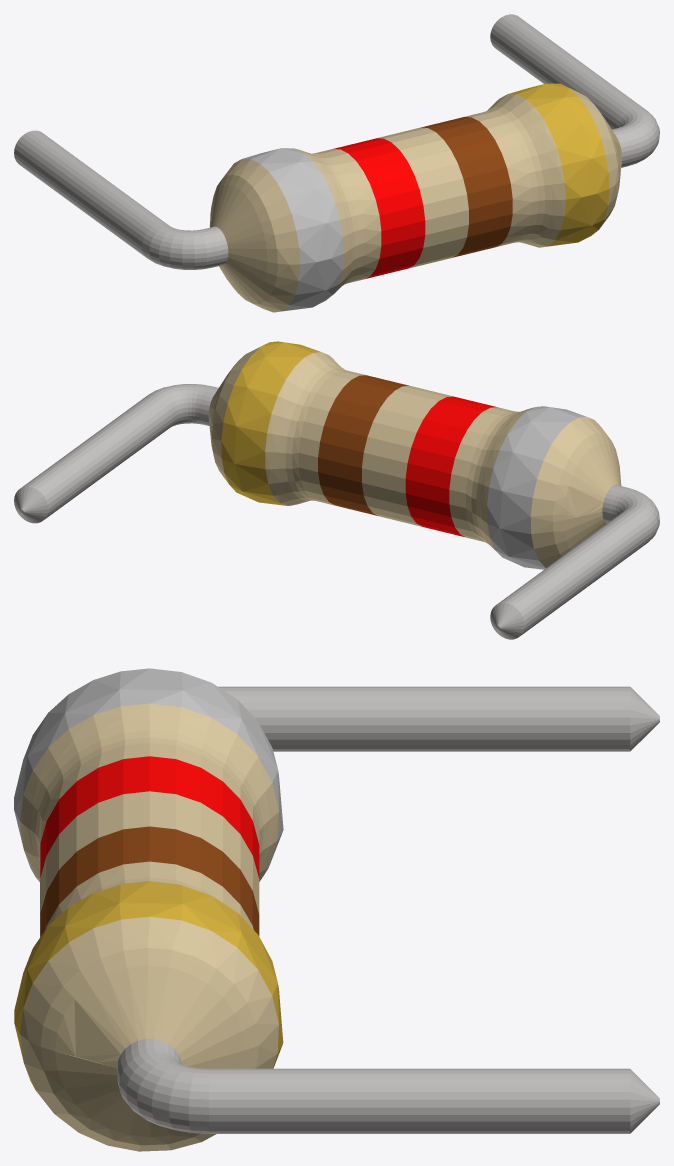
Rendered from Yageo CFR-25 Resistor Axial P7.62mm 820,0 Ohm.obj.
3 renders of one model, top to bottom at view 1: azimuth 30°, elevation 25°; view 2: azimuth 150°, elevation 25°; view 3: azimuth 270°, elevation 25°, orthographic. The views are drawn at different scales.
Visible parts, largest first — view 1: Yageo_CFR-25_Resistor_Axial_P7.62mm_820,0_Ohm; view 2: Yageo_CFR-25_Resistor_Axial_P7.62mm_820,0_Ohm; view 3: Yageo_CFR-25_Resistor_Axial_P7.62mm_820,0_Ohm.
Boxes of the visible parts, bbox=[...] form: Yageo_CFR-25_Resistor_Axial_P7.62mm_820,0_Ohm: bbox=[14, 14, 659, 312]; Yageo_CFR-25_Resistor_Axial_P7.62mm_820,0_Ohm: bbox=[14, 341, 659, 639]; Yageo_CFR-25_Resistor_Axial_P7.62mm_820,0_Ohm: bbox=[14, 668, 659, 1151].
Bounding box in the file's own units: 0.0198 × 0.00548 × 0.0132.
